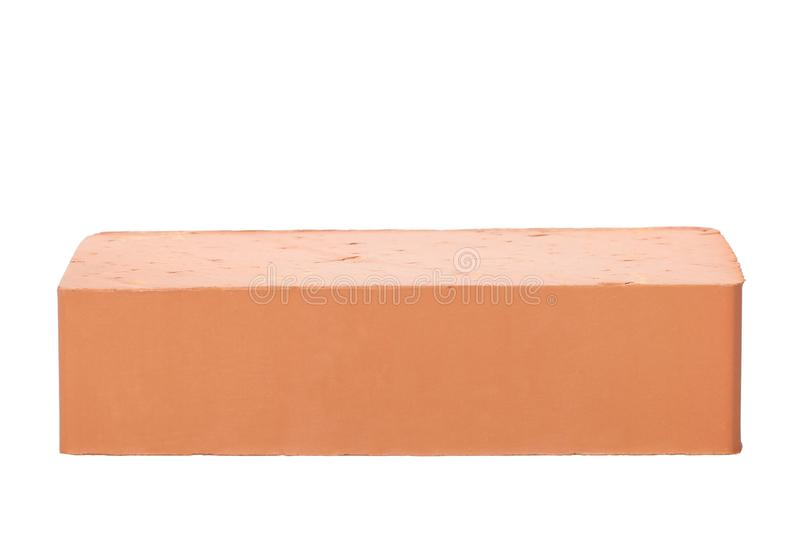brick: (58, 287, 742, 455)
